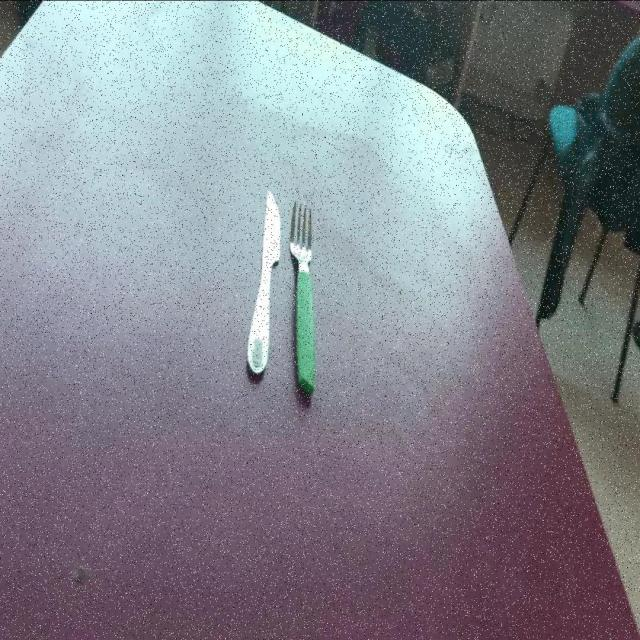Fork: (288, 198, 315, 393)
Knife: (245, 188, 281, 374)
